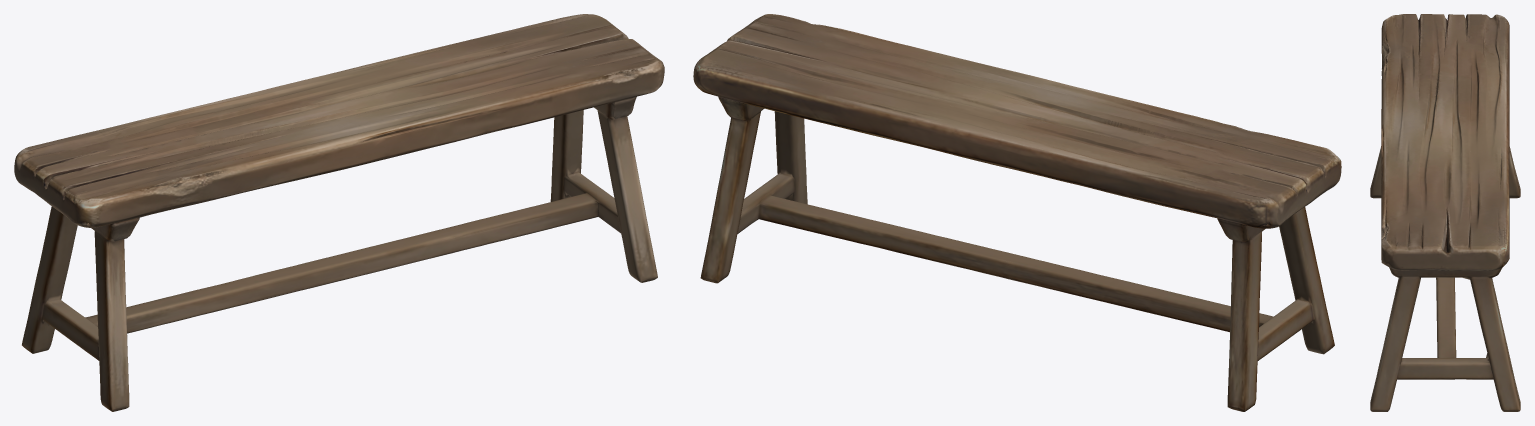
The model's file is silo81_bench.glb.
3 views of the same model, side by side, from view 1: azimuth 30°, elevation 25°; view 2: azimuth 150°, elevation 25°; view 3: azimuth 270°, elevation 25° (orthographic). The views are drawn at different scales.
Parts seen in each view (by area): view 1: tripo_node_fc3d96a5-8eec-45b8-bb93-7ad7afc4fd13; view 2: tripo_node_fc3d96a5-8eec-45b8-bb93-7ad7afc4fd13; view 3: tripo_node_fc3d96a5-8eec-45b8-bb93-7ad7afc4fd13.
Part boxes in pixels (box(x1,y1,x2,y2)): tripo_node_fc3d96a5-8eec-45b8-bb93-7ad7afc4fd13: box(14, 14, 664, 411); tripo_node_fc3d96a5-8eec-45b8-bb93-7ad7afc4fd13: box(693, 14, 1341, 411); tripo_node_fc3d96a5-8eec-45b8-bb93-7ad7afc4fd13: box(1370, 14, 1520, 411).
Bounding box in the file's own units: 0.9782 × 0.3316 × 0.2626.
1 material, 1 textured.
